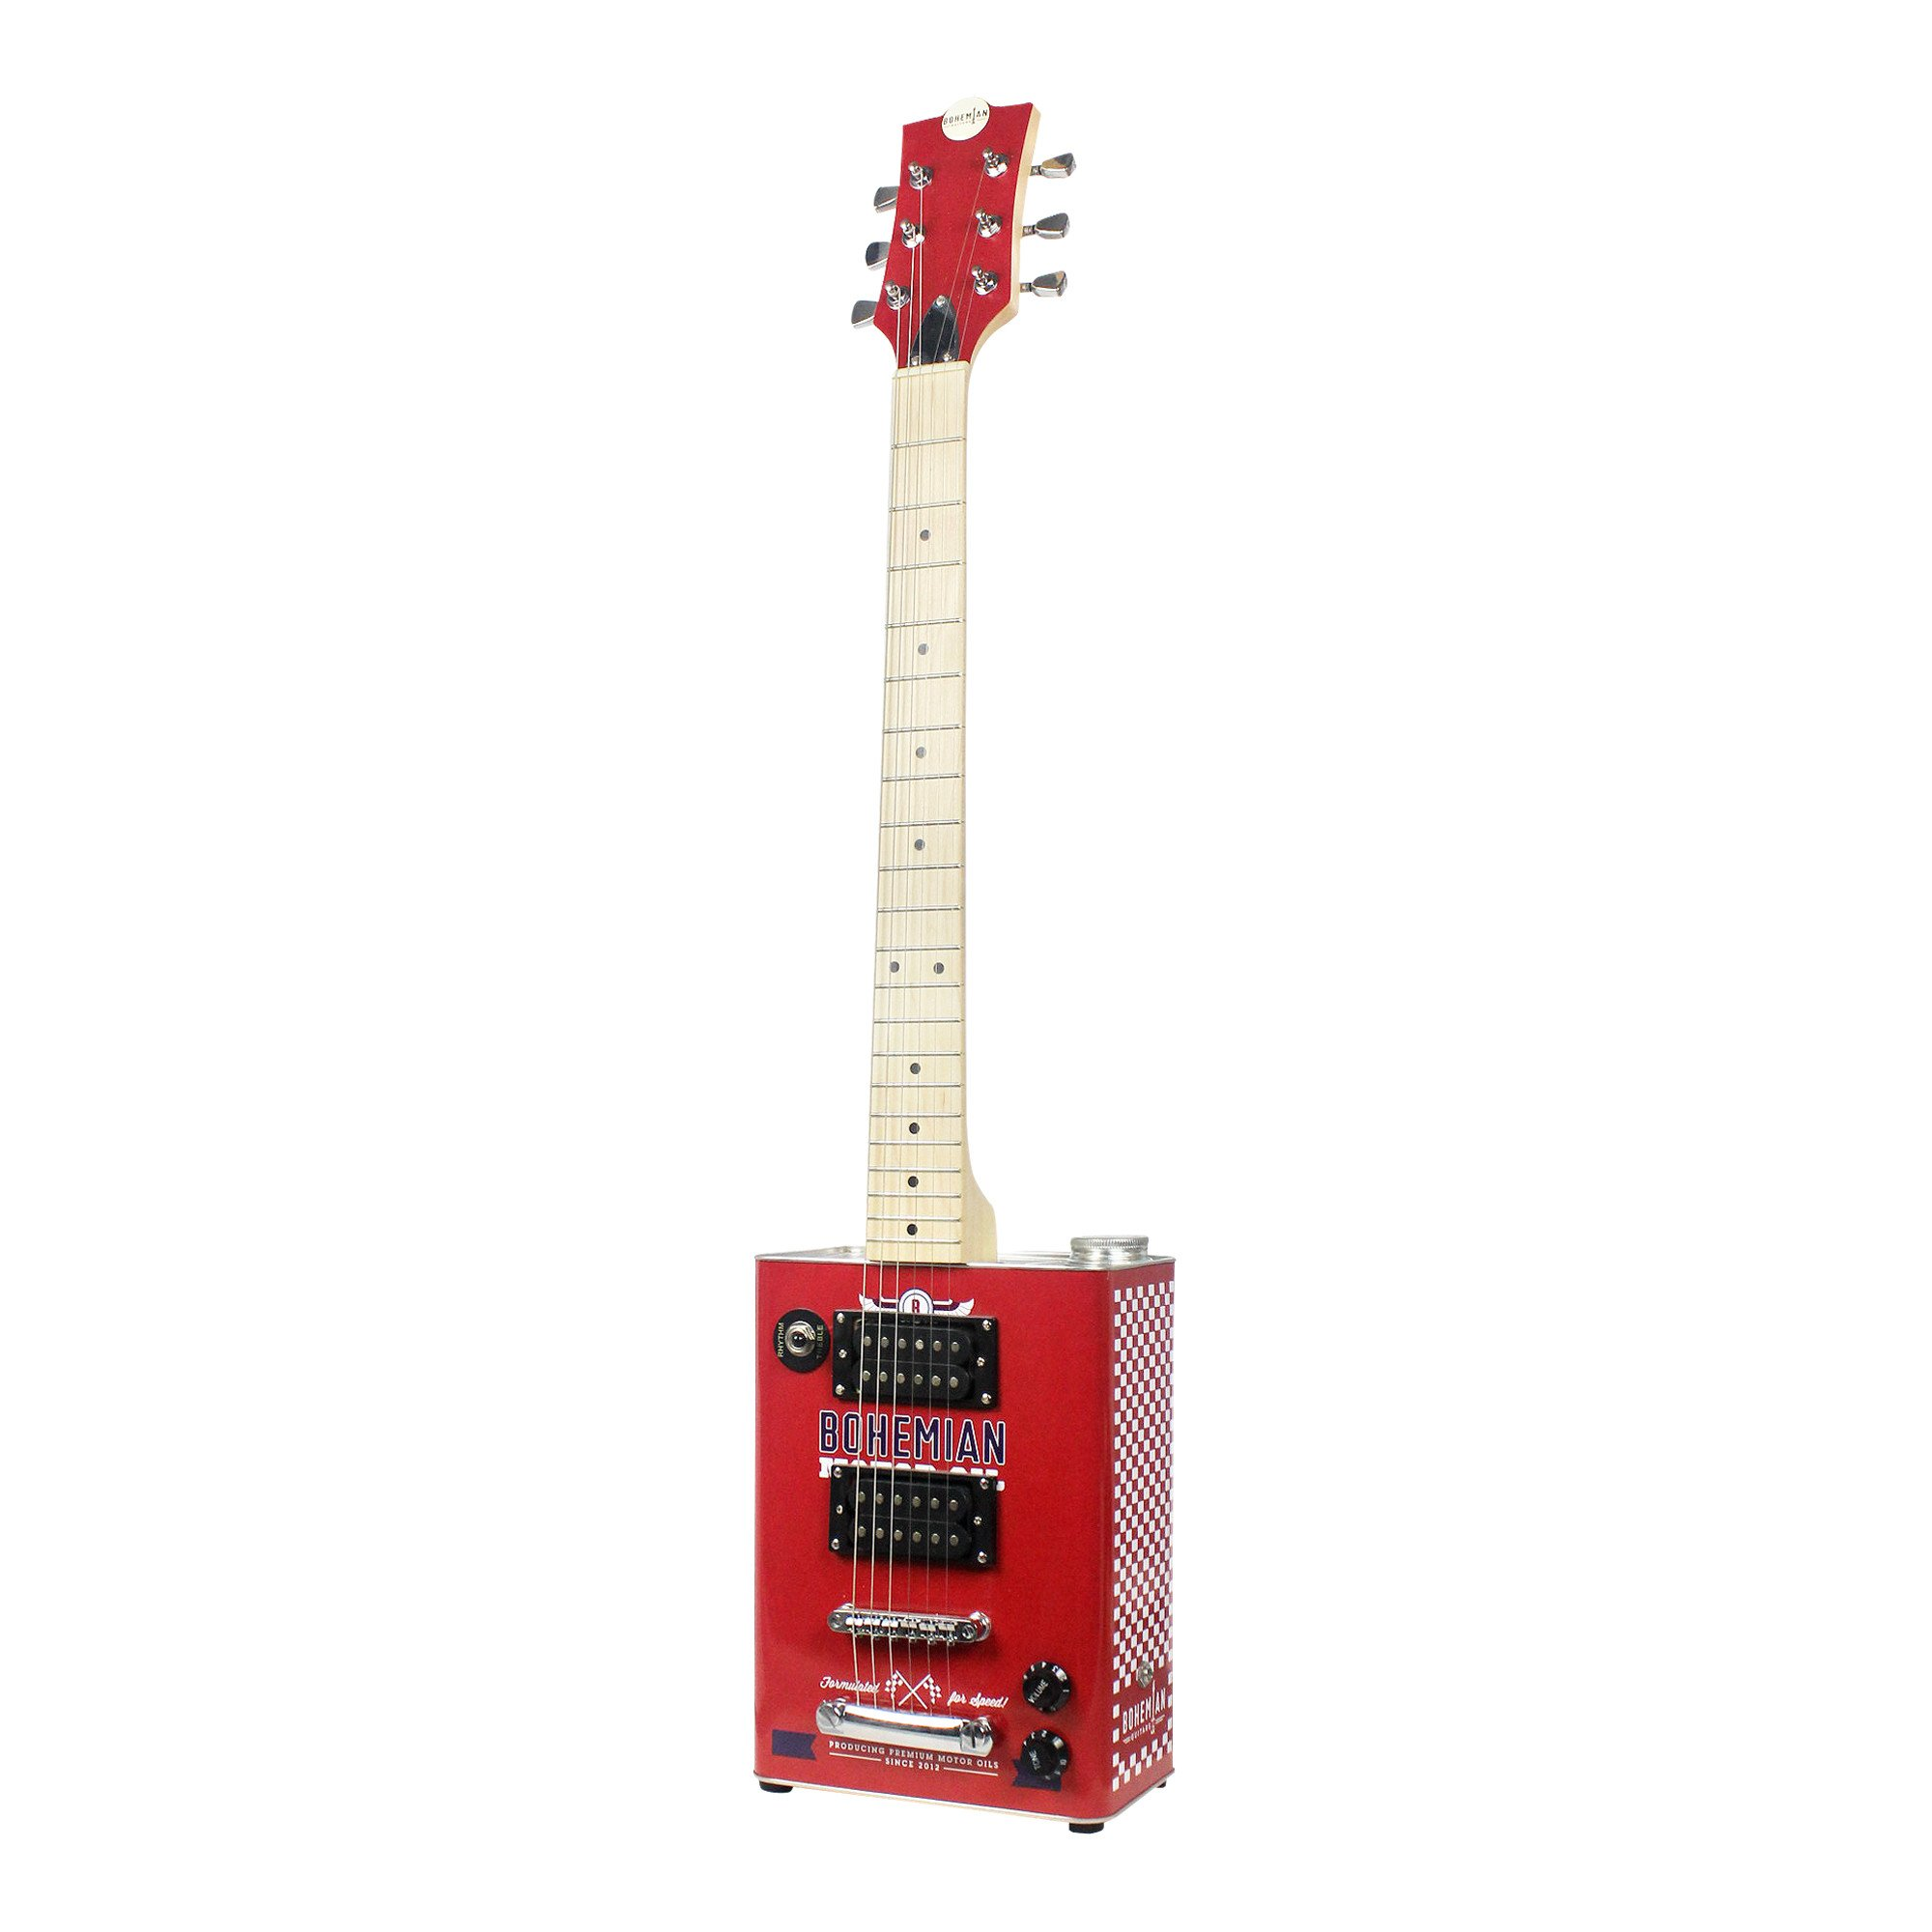ElectricGuitar: (748, 106, 1198, 1854)
